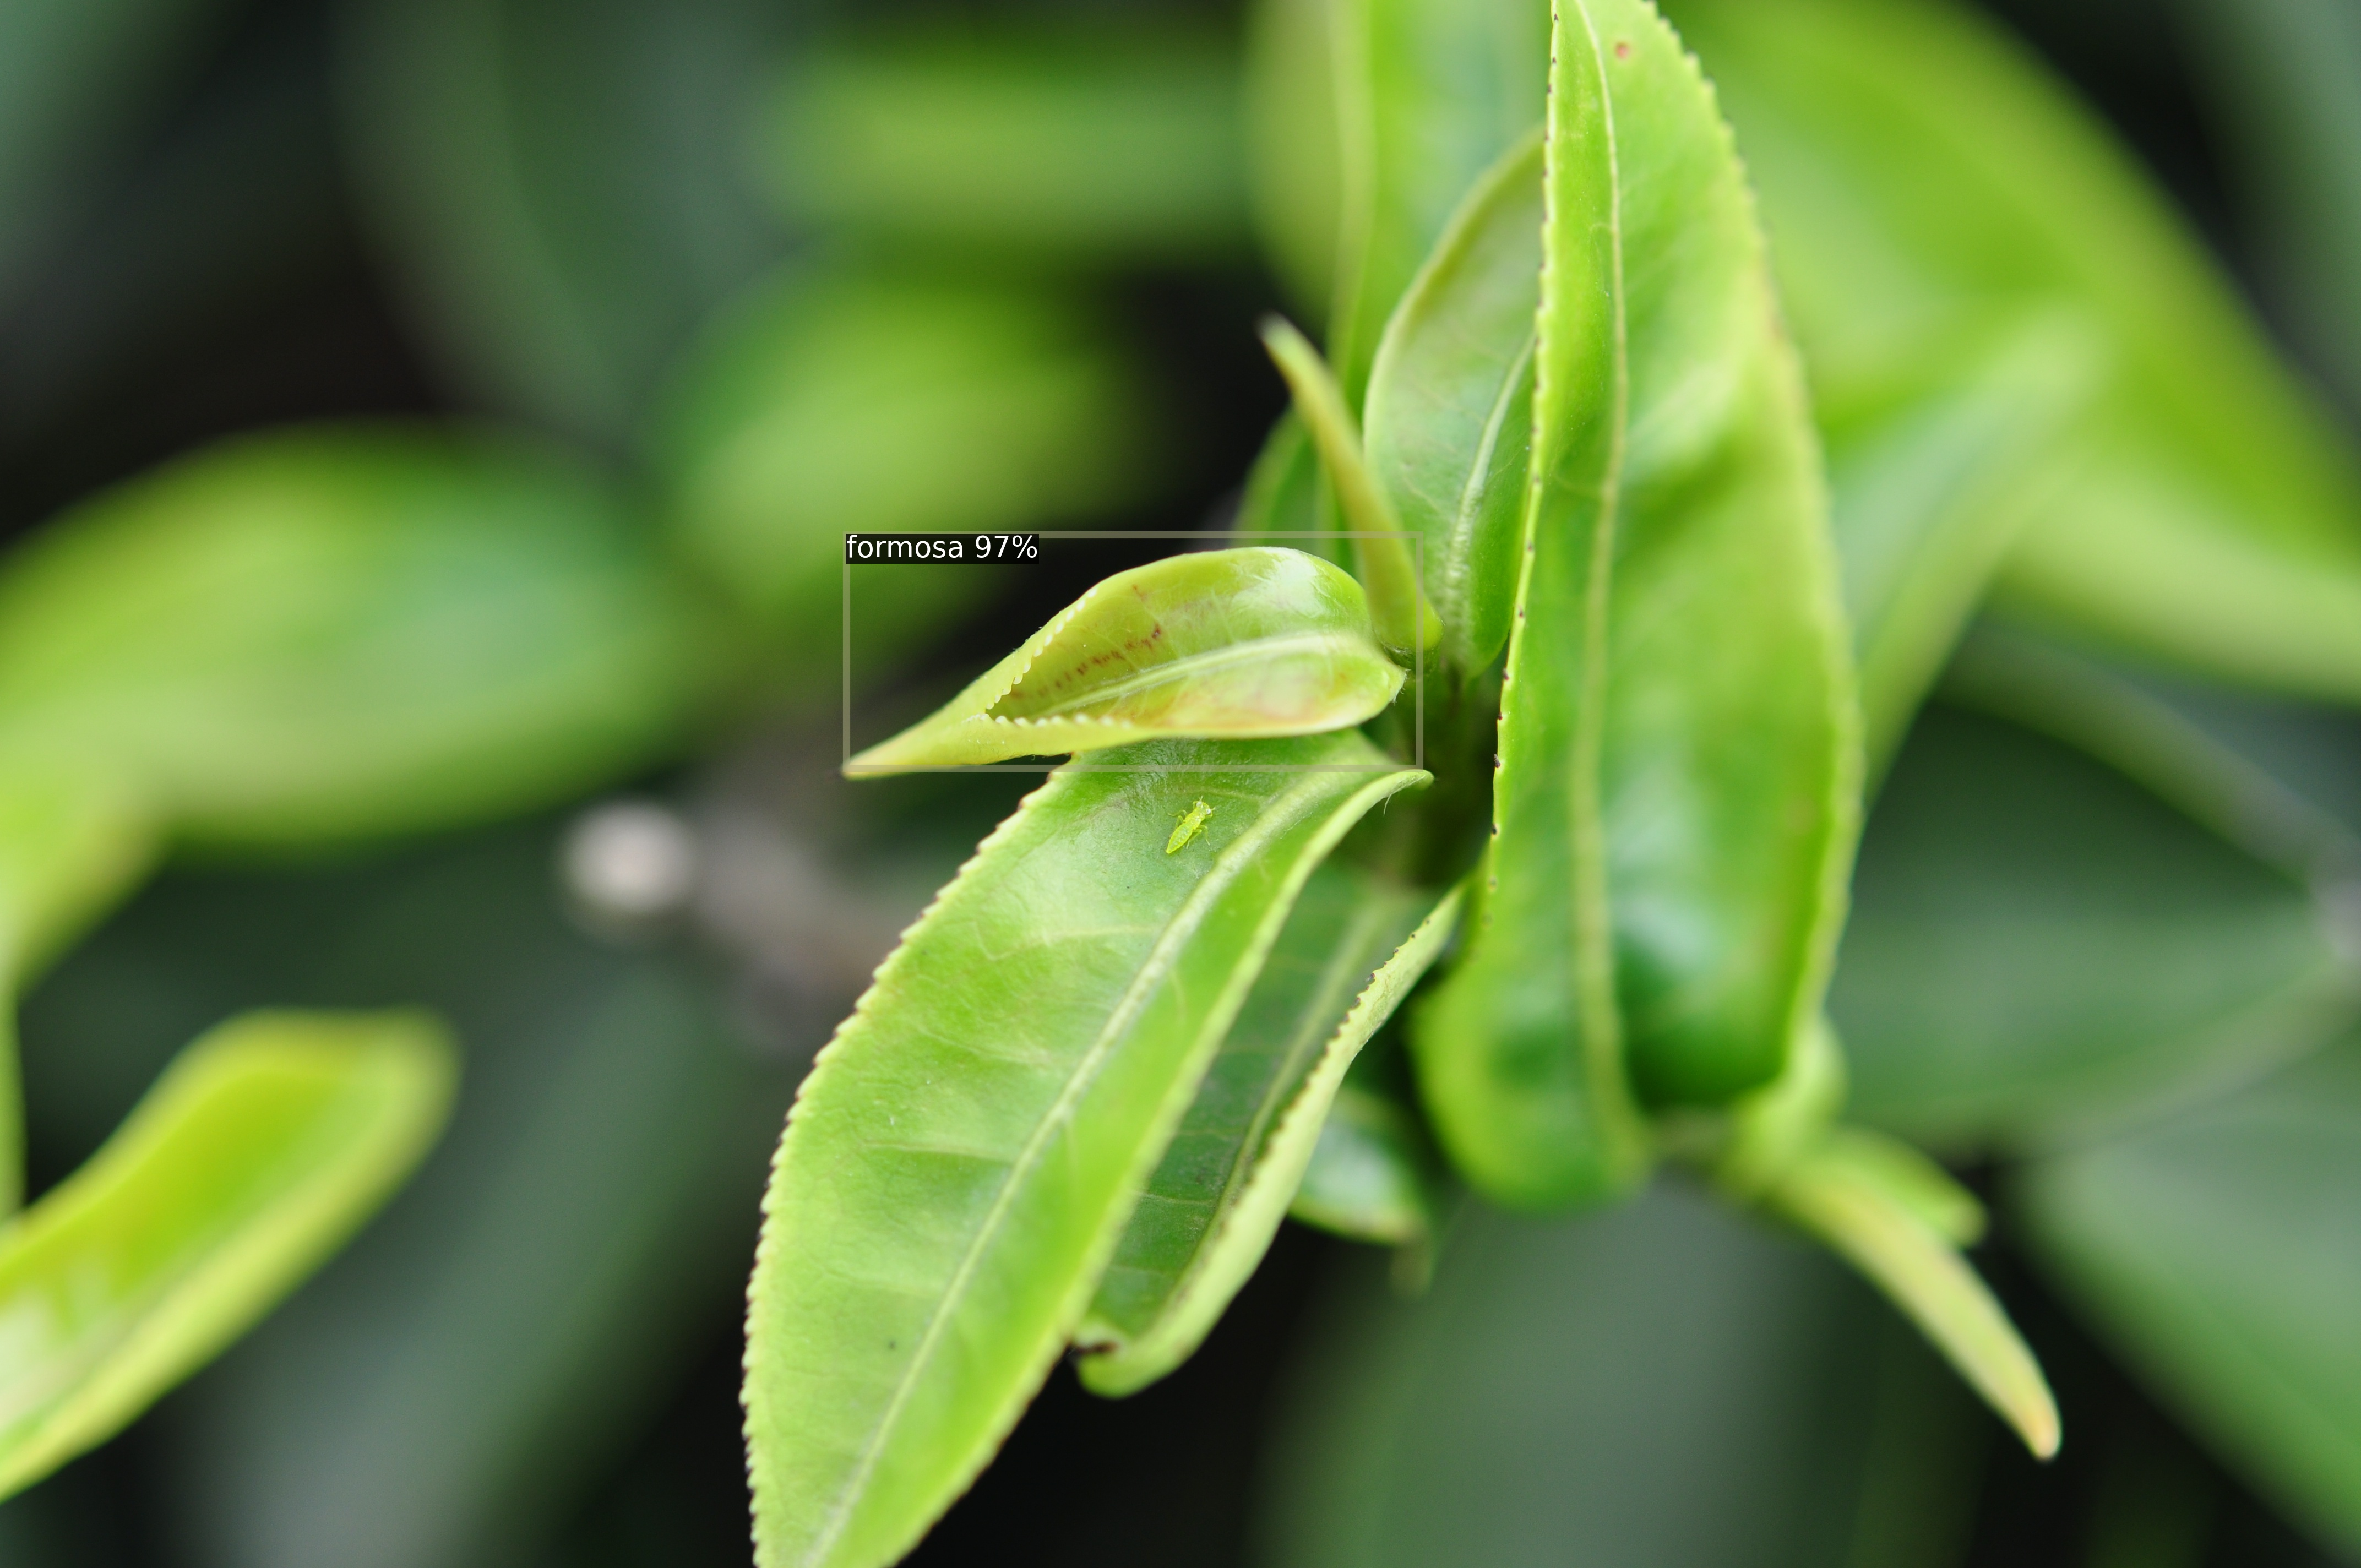formosa: (847, 534, 1419, 768)
